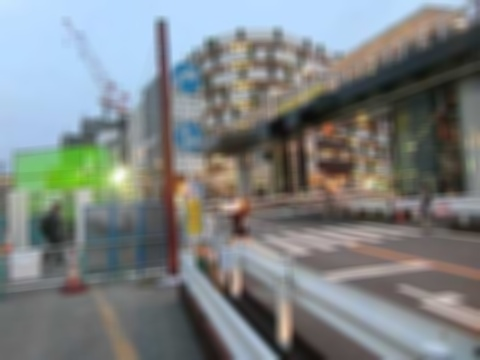Direction_sign: (167, 117, 207, 156), (171, 58, 198, 92)
